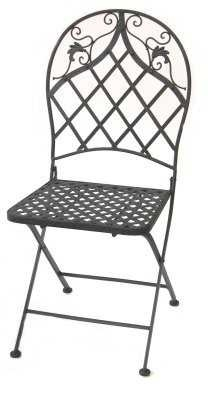obstacle: (7, 9, 190, 375)
